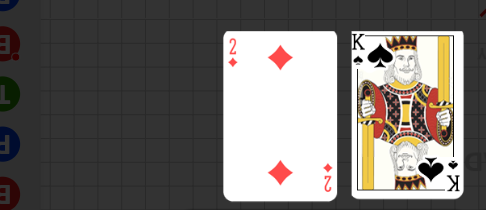2D: (226, 36, 239, 69)
KS: (445, 156, 462, 193)
